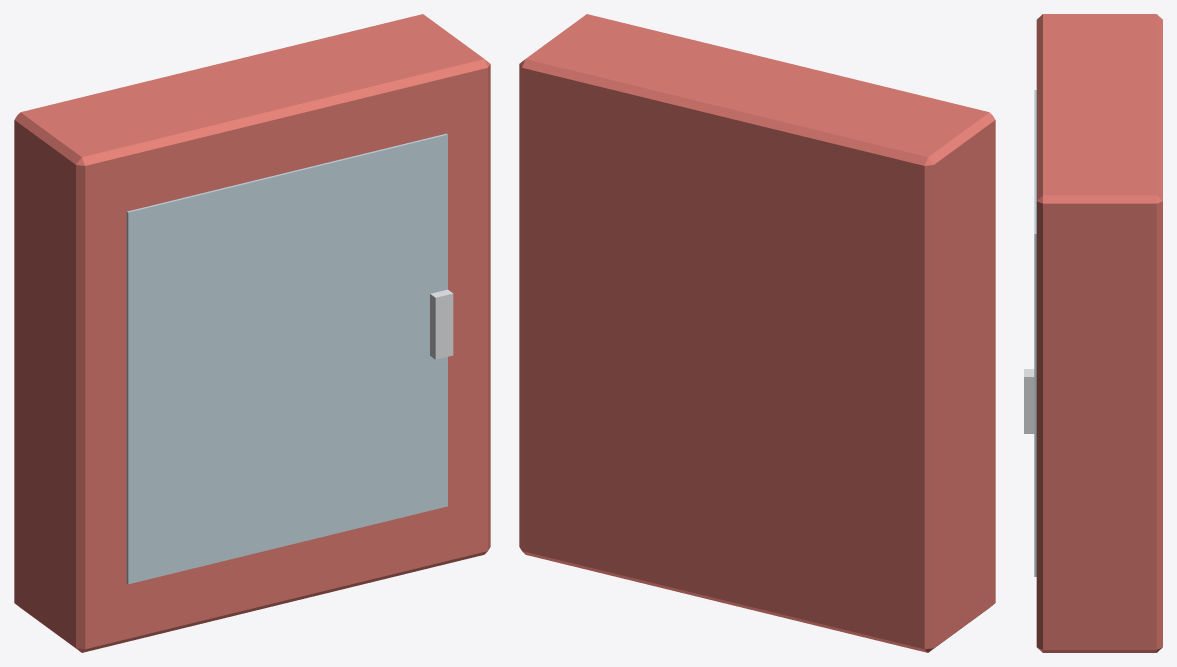
Rendered from ext_cabinet.glb.
3 views of the same model, side by side, from view 1: azimuth 30°, elevation 25°; view 2: azimuth 150°, elevation 25°; view 3: azimuth 270°, elevation 25° (orthographic). The views are drawn at different scales.
Parts seen in each view (by area): view 1: ext_cabinet_paint_r, ext_cabinet_glass, ext_cabinet_chrome; view 2: ext_cabinet_paint_r; view 3: ext_cabinet_paint_r, ext_cabinet_glass, ext_cabinet_chrome.
Part boxes in pixels (x1,y1,x2,y2): ext_cabinet_paint_r: (14,14,490,652); ext_cabinet_glass: (126,133,447,584); ext_cabinet_chrome: (430,289,453,359); ext_cabinet_paint_r: (519,14,995,652); ext_cabinet_paint_r: (1036,14,1162,652); ext_cabinet_glass: (1034,90,1036,576); ext_cabinet_chrome: (1024,369,1034,433).
Bounding box in the file's own units: 0.7 × 0.8 × 0.22.
